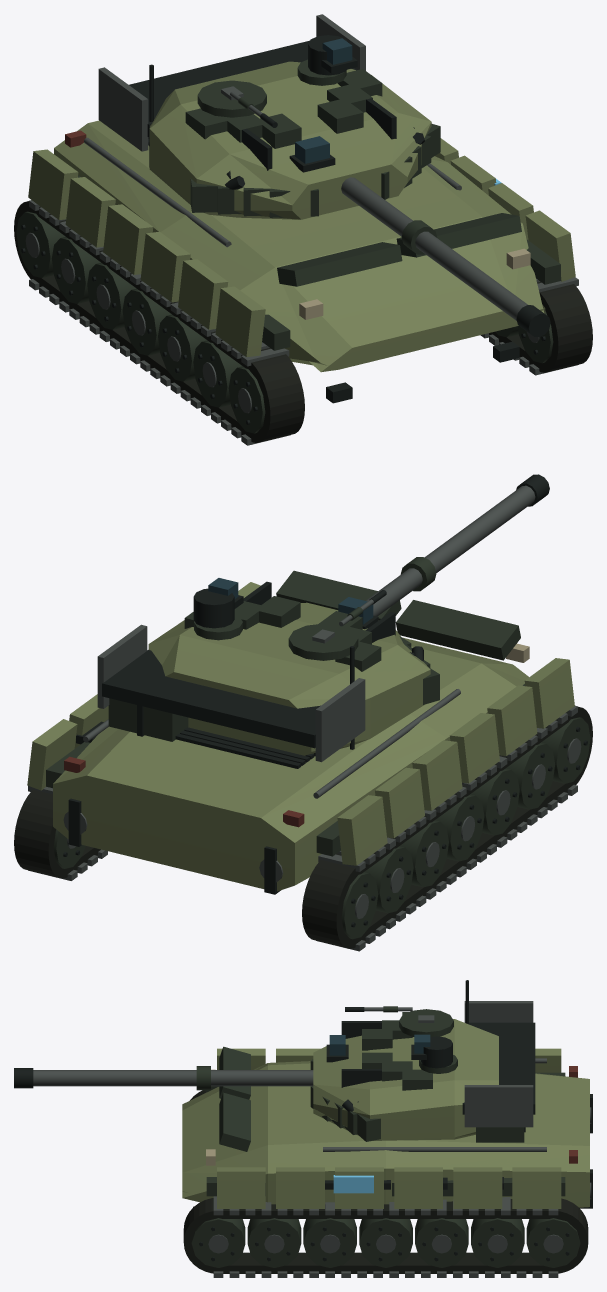
Rendered from tank.glb.
The picture shows the model from 3 angles, top to bottom: view 1: azimuth 30°, elevation 25°; view 2: azimuth 150°, elevation 25°; view 3: azimuth 270°, elevation 25°; orthographic projection. The views are drawn at different scales.
Visible parts, largest first — view 1: armor (×2), equipment (×3), glass; view 2: armor (×2), equipment (×3), glass; view 3: equipment (×3), armor (×2), marking, glass.
Part boxes in pixels (box(x1,y1,x2,y2)): armor (×2): box(28, 61, 575, 372); equipment (×3): box(14, 14, 592, 445); glass: box(295, 38, 352, 163); armor (×2): box(27, 582, 574, 891); equipment (×3): box(14, 474, 592, 951); glass: box(208, 578, 373, 624); equipment (×3): box(14, 980, 592, 1277); armor (×2): box(182, 1019, 589, 1208); marking: box(333, 1175, 373, 1193); glass: box(329, 1034, 430, 1055).
Bounding box in the file's own units: 3.76 × 2.7 × 7.17.
